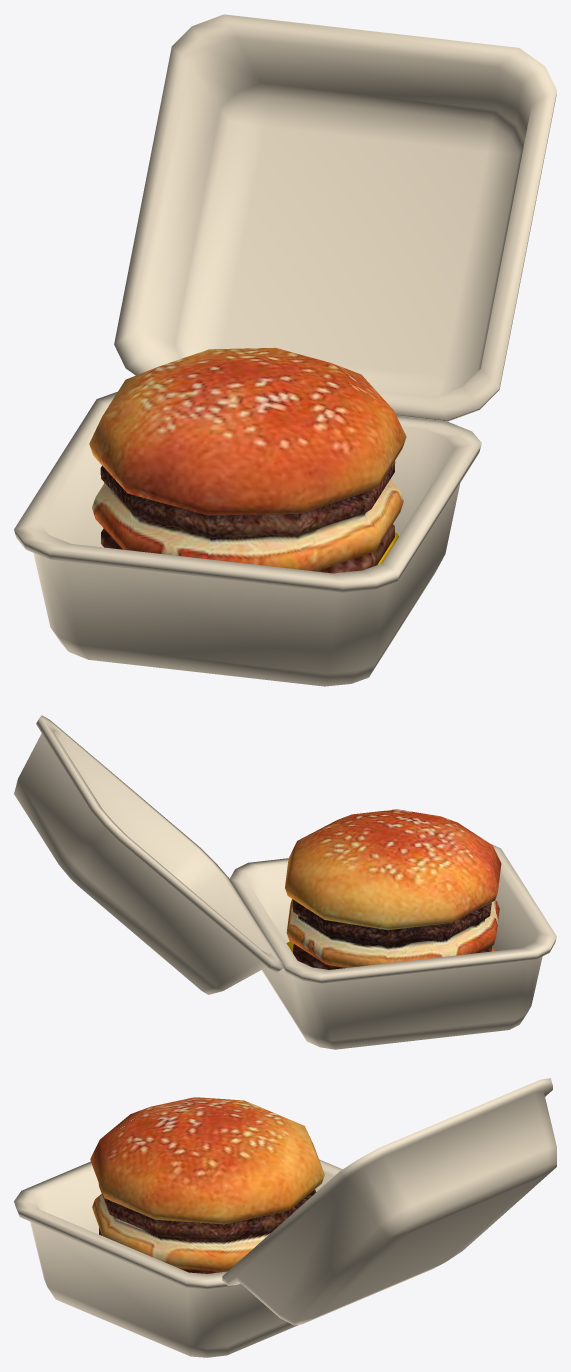
Rendered from DoubleBurger.gltf.
3 renders of one model, top to bottom at view 1: azimuth 30°, elevation 25°; view 2: azimuth 150°, elevation 25°; view 3: azimuth 270°, elevation 25°, orthographic. The views are drawn at different scales.
Parts seen in each view (by area): view 1: node_FFHP_PRE_Food_box_open_-1576, node_FFHP_PRE_Double_burger_256_-1574; view 2: node_FFHP_PRE_Food_box_open_-1576, node_FFHP_PRE_Double_burger_256_-1574; view 3: node_FFHP_PRE_Food_box_open_-1576, node_FFHP_PRE_Double_burger_256_-1574.
Boxes of the visible parts, <box> form: node_FFHP_PRE_Food_box_open_-1576: <box>14,14,556,686</box>; node_FFHP_PRE_Double_burger_256_-1574: <box>89,347,406,573</box>; node_FFHP_PRE_Food_box_open_-1576: <box>14,715,556,1049</box>; node_FFHP_PRE_Double_burger_256_-1574: <box>285,809,501,969</box>; node_FFHP_PRE_Food_box_open_-1576: <box>14,1078,556,1357</box>; node_FFHP_PRE_Double_burger_256_-1574: <box>90,1097,324,1273</box>.
Bounding box in the file's own units: 0.4314 × 0.2534 × 0.4314.
2 materials, 1 textured.
